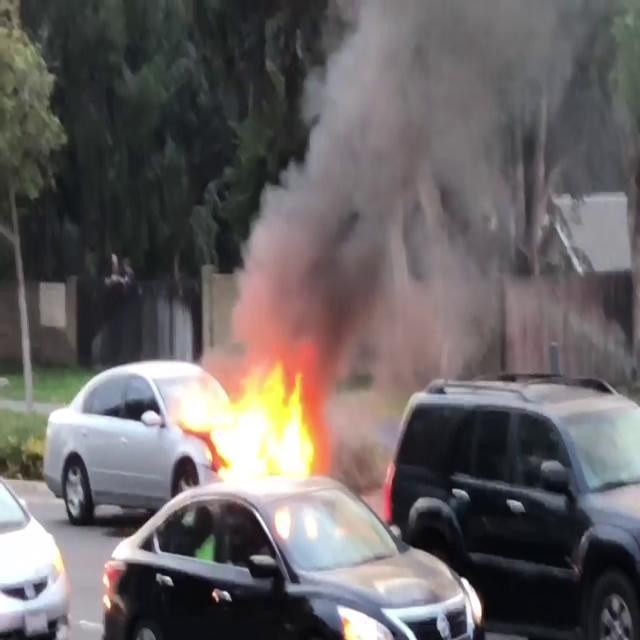Fire: (182, 352, 322, 490)
Smoke: (238, 0, 580, 366)
